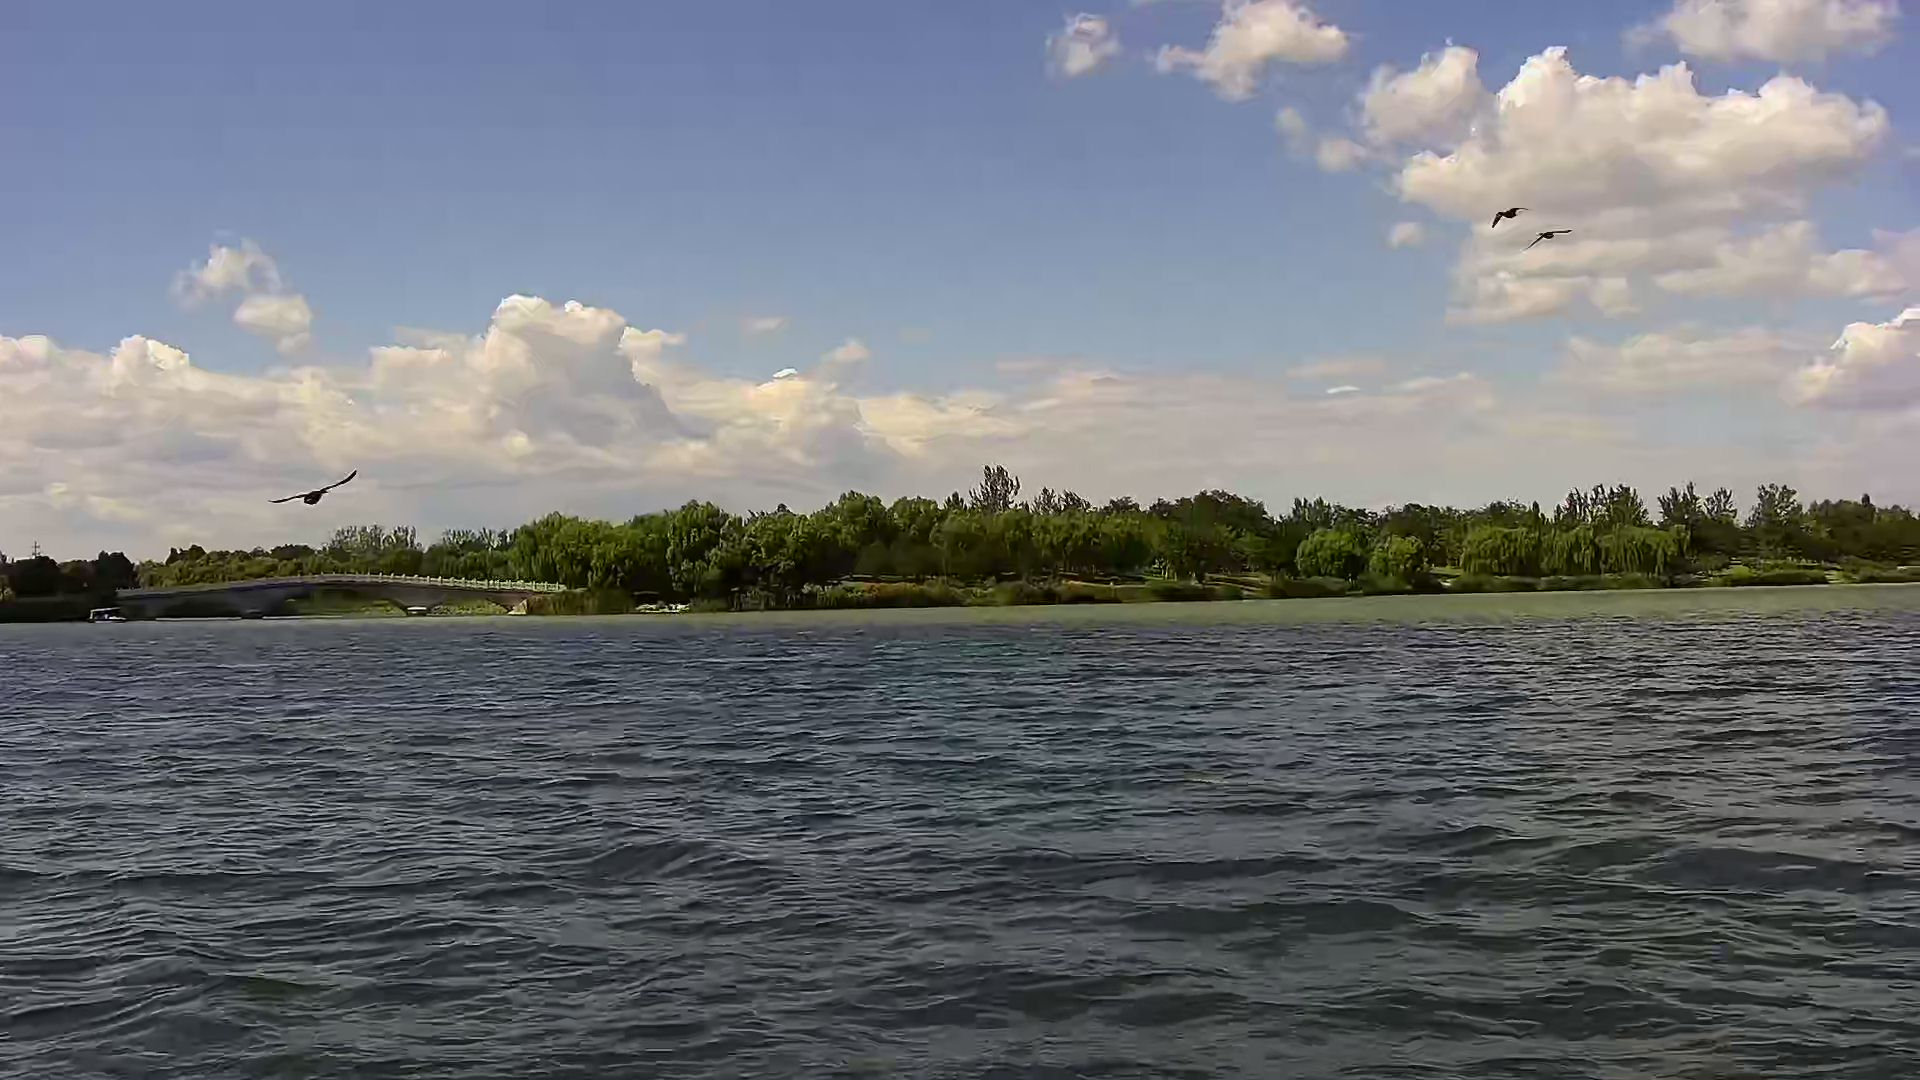bridge: (111, 571, 568, 621)
